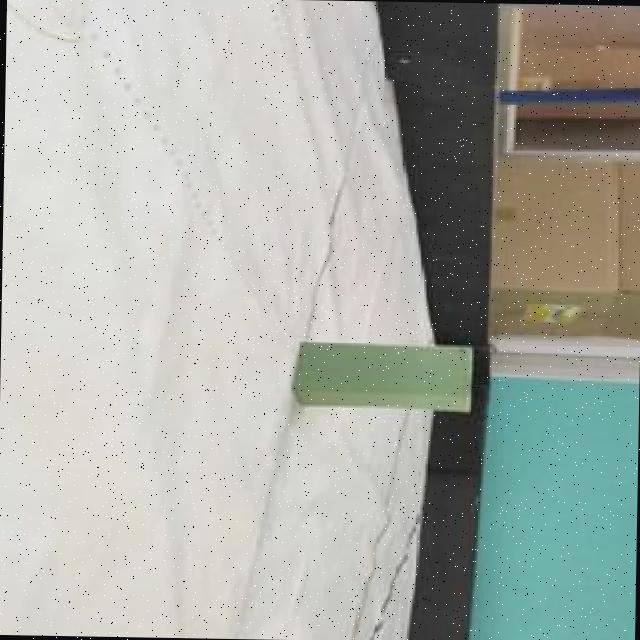greenbox: (292, 343, 475, 410)
